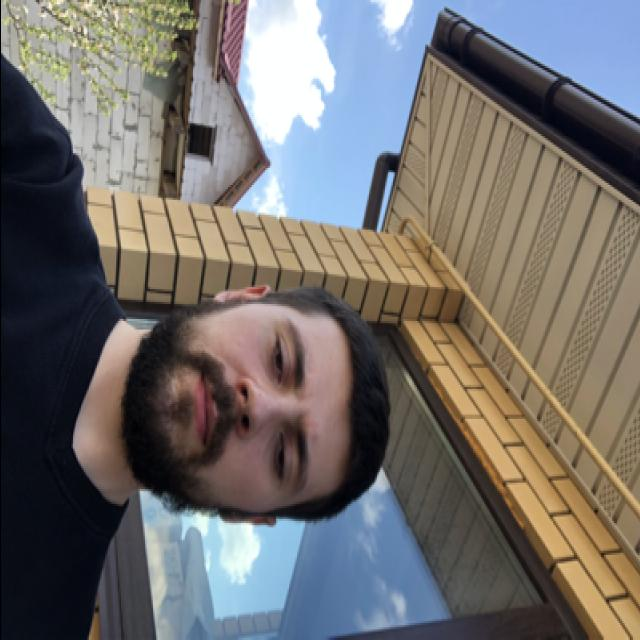no_mask: (124, 306, 322, 508)
